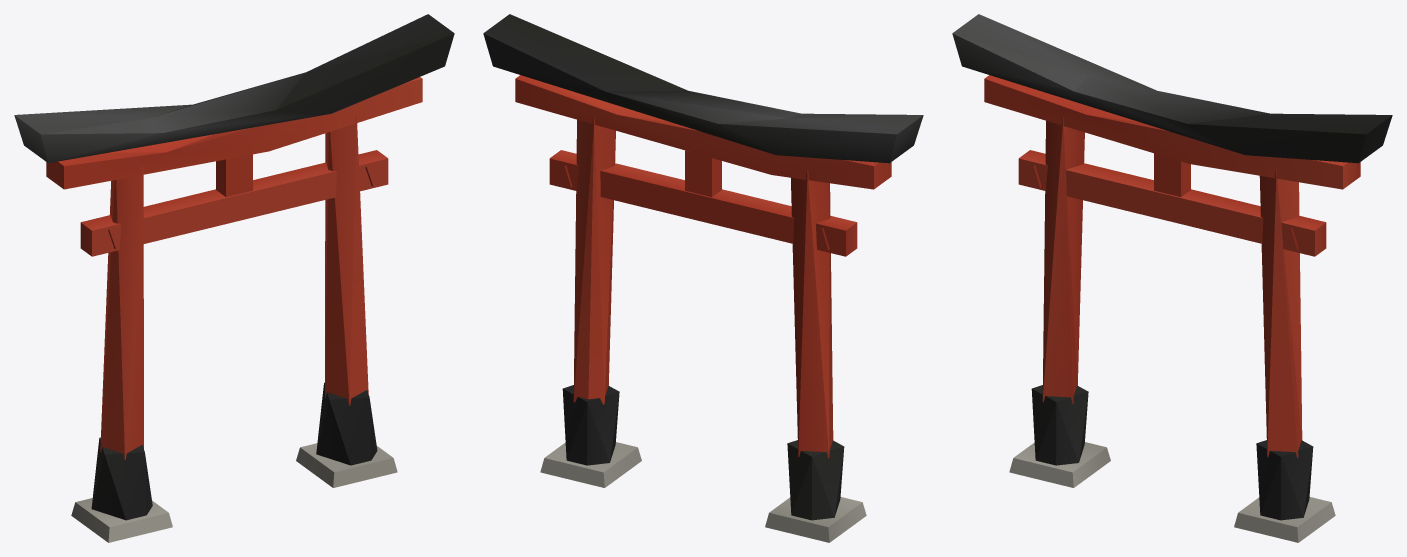
Rendered from zen_torii-lod1.glb.
3 renders of one model, left to right at view 1: azimuth 30°, elevation 25°; view 2: azimuth 150°, elevation 25°; view 3: azimuth 330°, elevation 25°, orthographic.
Parts seen in each view (by area): view 1: zen_torii; view 2: zen_torii; view 3: zen_torii.
Part boxes in pixels (left/top/right/bottom): zen_torii: left=14, top=14, right=454, bottom=542; zen_torii: left=483, top=14, right=923, bottom=542; zen_torii: left=952, top=14, right=1392, bottom=542.
Size of the model in its own units: 8.66 by 8.39 by 1.35.
